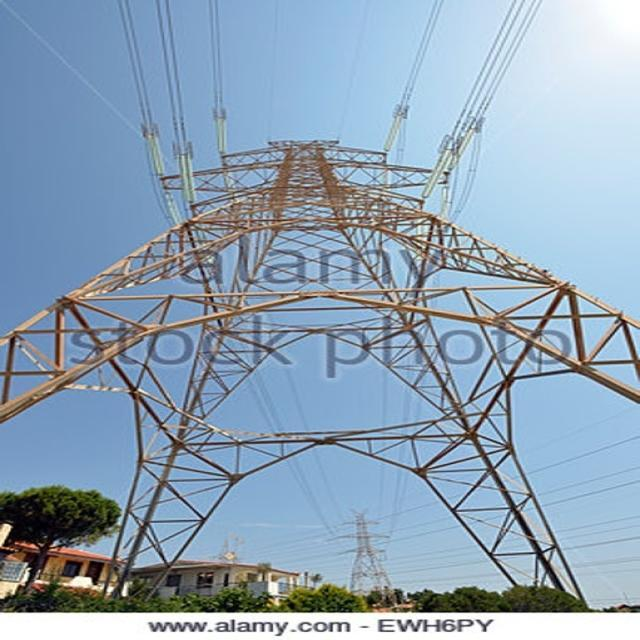non-critical vegetation: (4, 134, 628, 589)
